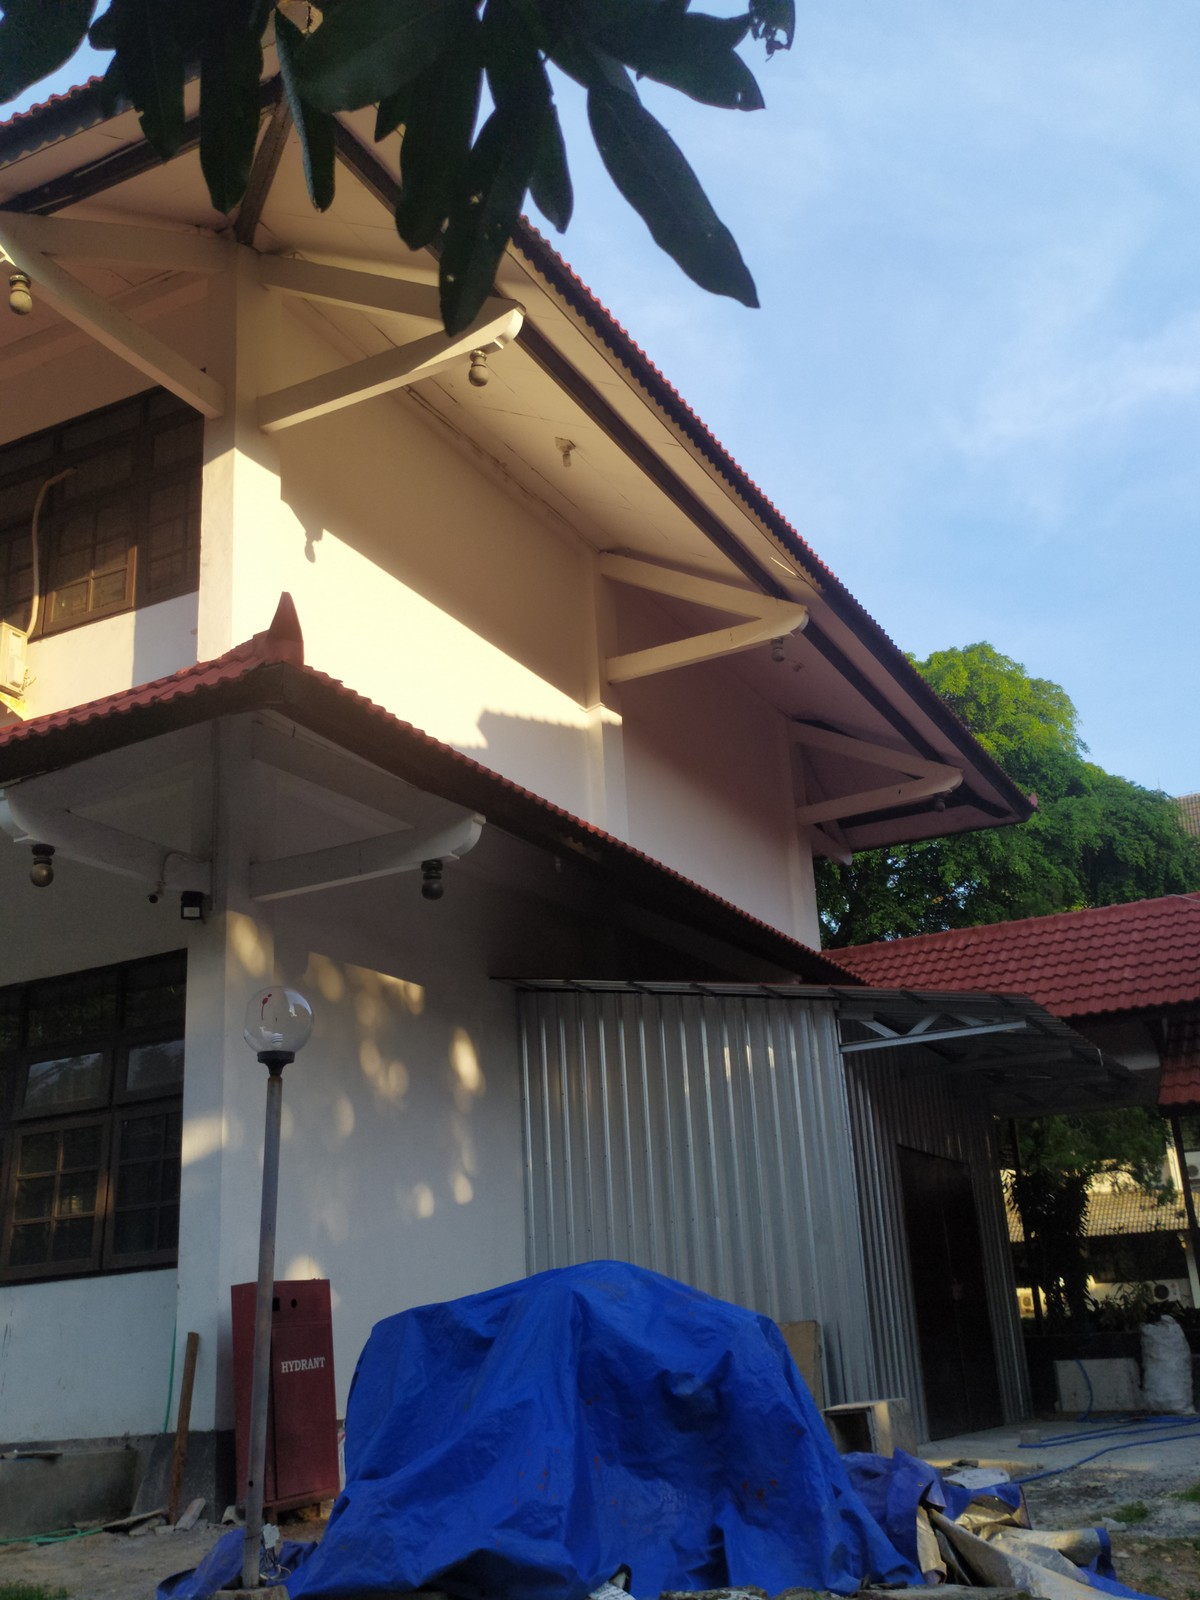concrete beam: (601, 624, 771, 690)
concrete column: (166, 774, 280, 1431), (184, 224, 286, 644), (587, 540, 634, 825)
